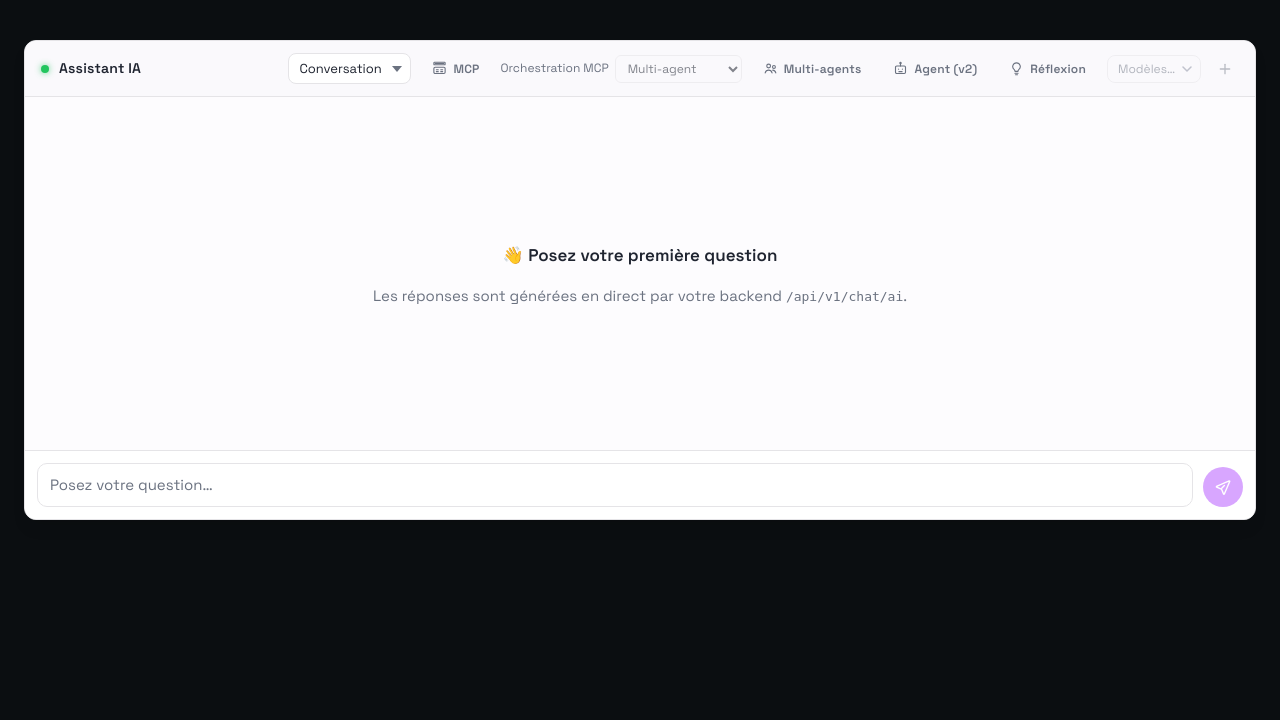
Test: ChatWindow - sélecteur d’orchestration MCP › signale explicitement une deadline globale atteinte
Click the button "MCP": [456, 68] box x1=421 y1=54 x2=490 y2=82
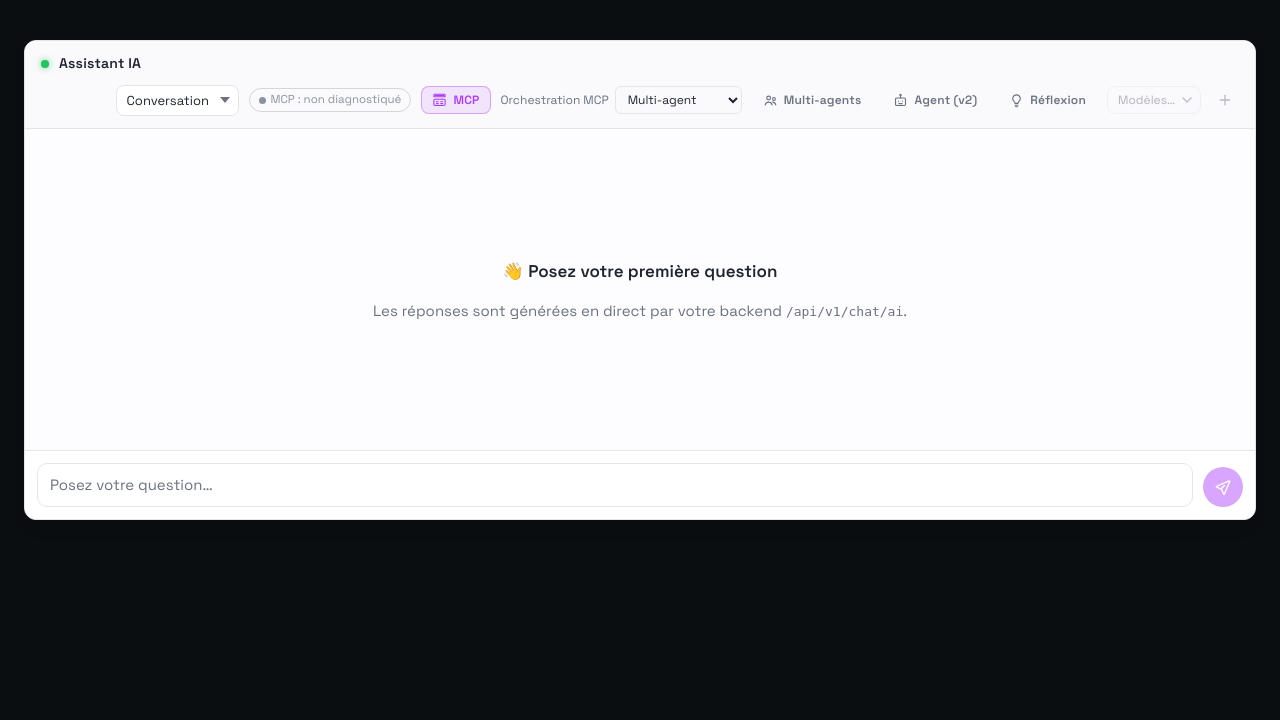
In the text box named "Votre message": [615, 485] box x1=37 y1=463 x2=1193 y2=507, type "Analyse avec deadline"
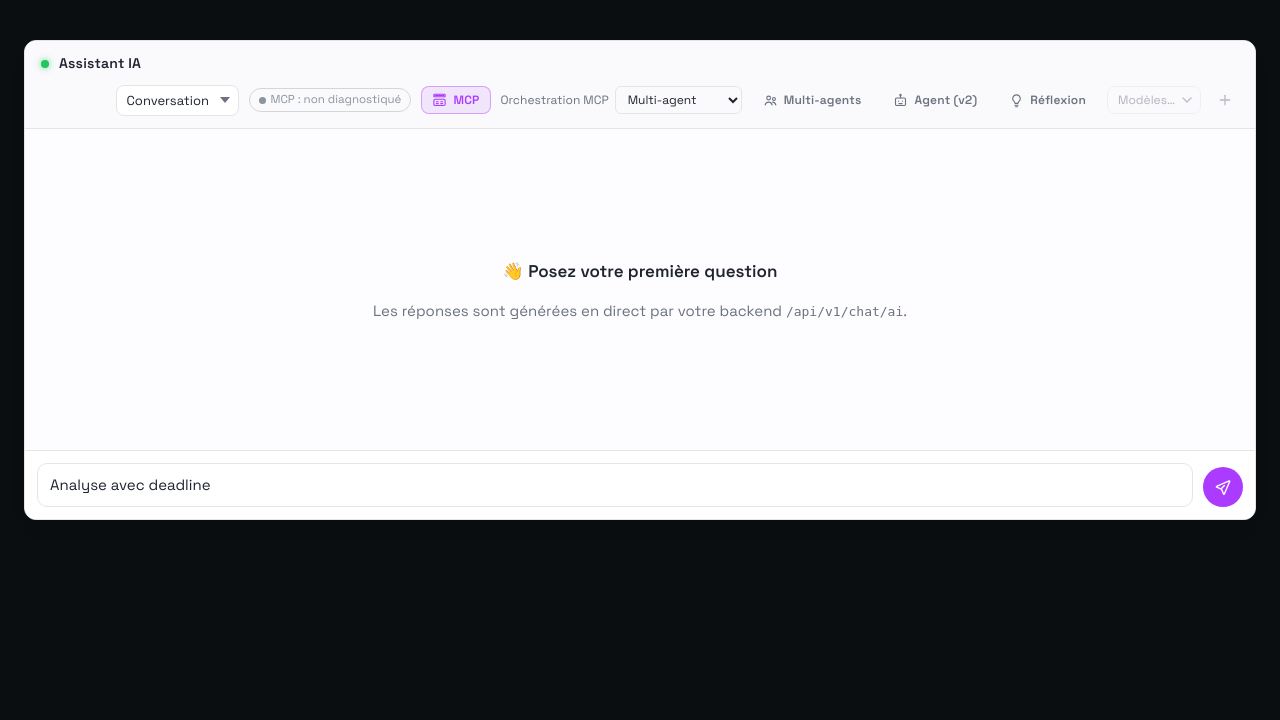
Click the button named "Envoyer": [1223, 487] box x1=1203 y1=467 x2=1243 y2=507
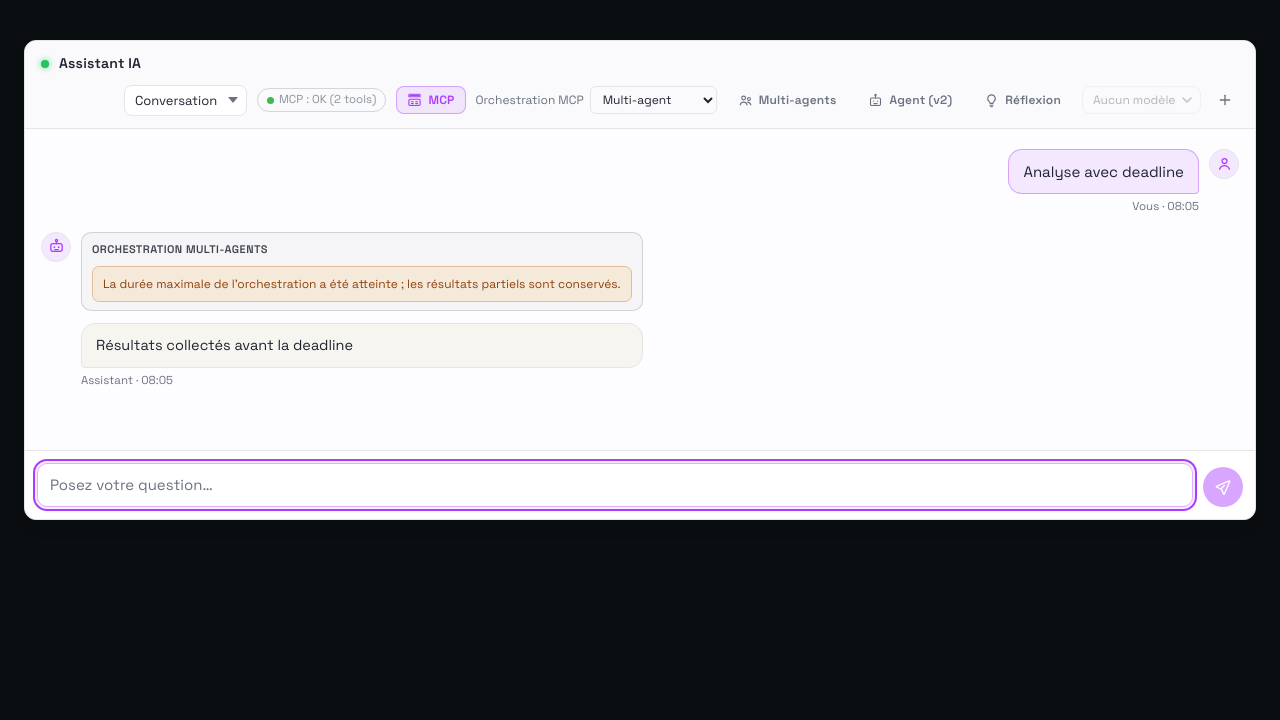
Result: the text "La durée maximale de l’orchestration a été atteinte ; les résultats partiels sont conservés." is shown at x1=103 y1=276 x2=621 y2=292
Result: the text "Résultats collectés avant la deadline" is shown at x1=96 y1=336 x2=353 y2=354
